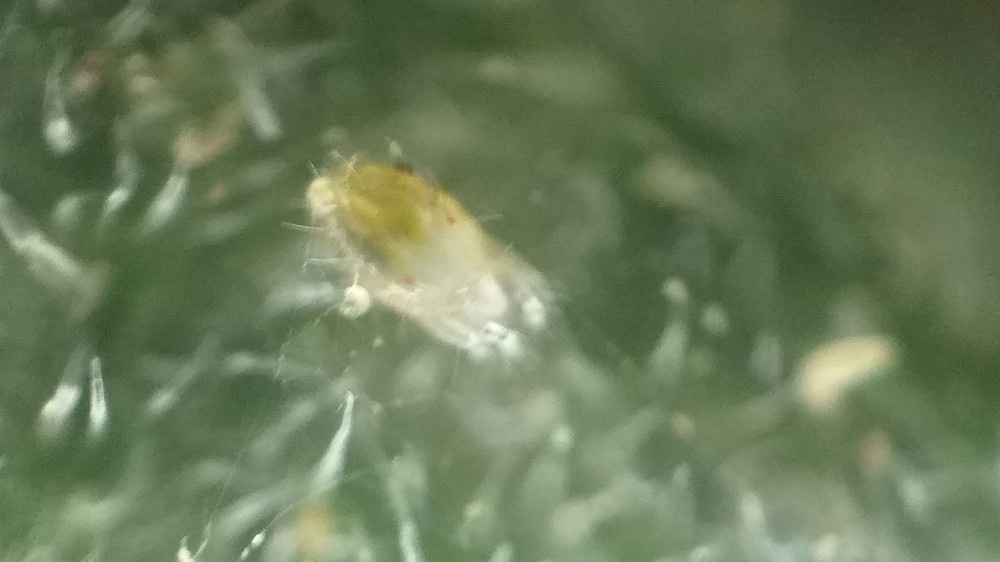Aracnido Rojo: (244, 133, 577, 378)
